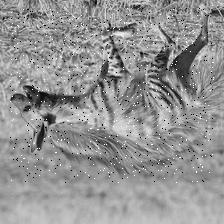hyena: (11, 8, 215, 183)
